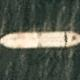ship: (0, 0, 40, 17)
